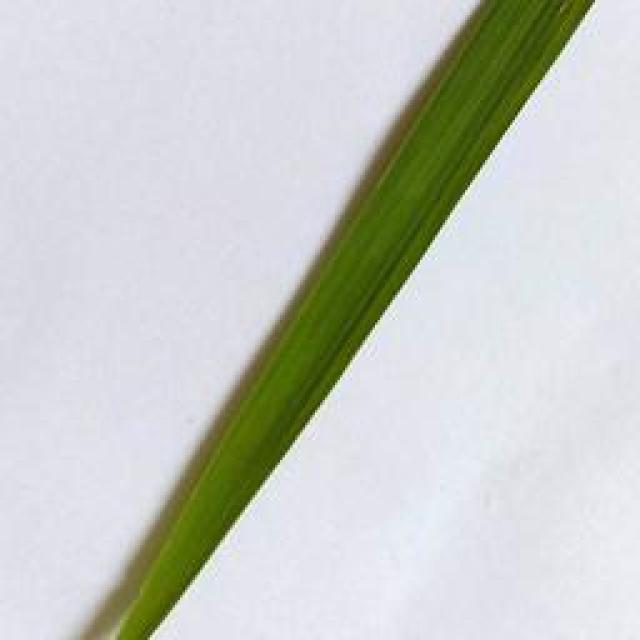Healthy-Plant: (116, 0, 594, 640)
